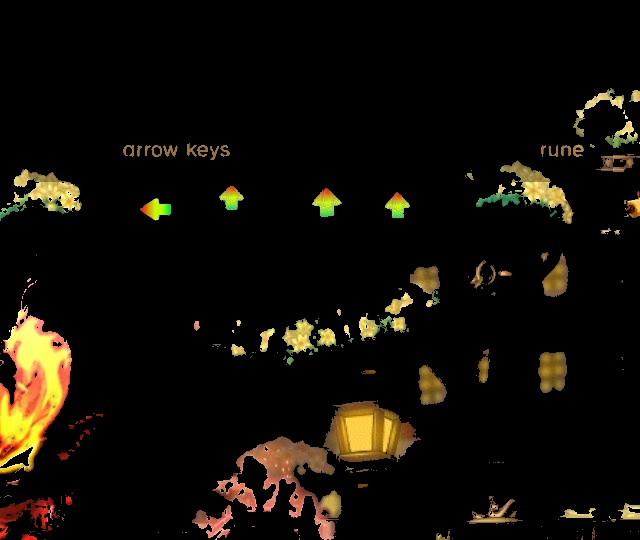left: (132, 190, 181, 228)
up: (303, 177, 347, 227), (377, 185, 420, 226), (211, 179, 254, 218)
